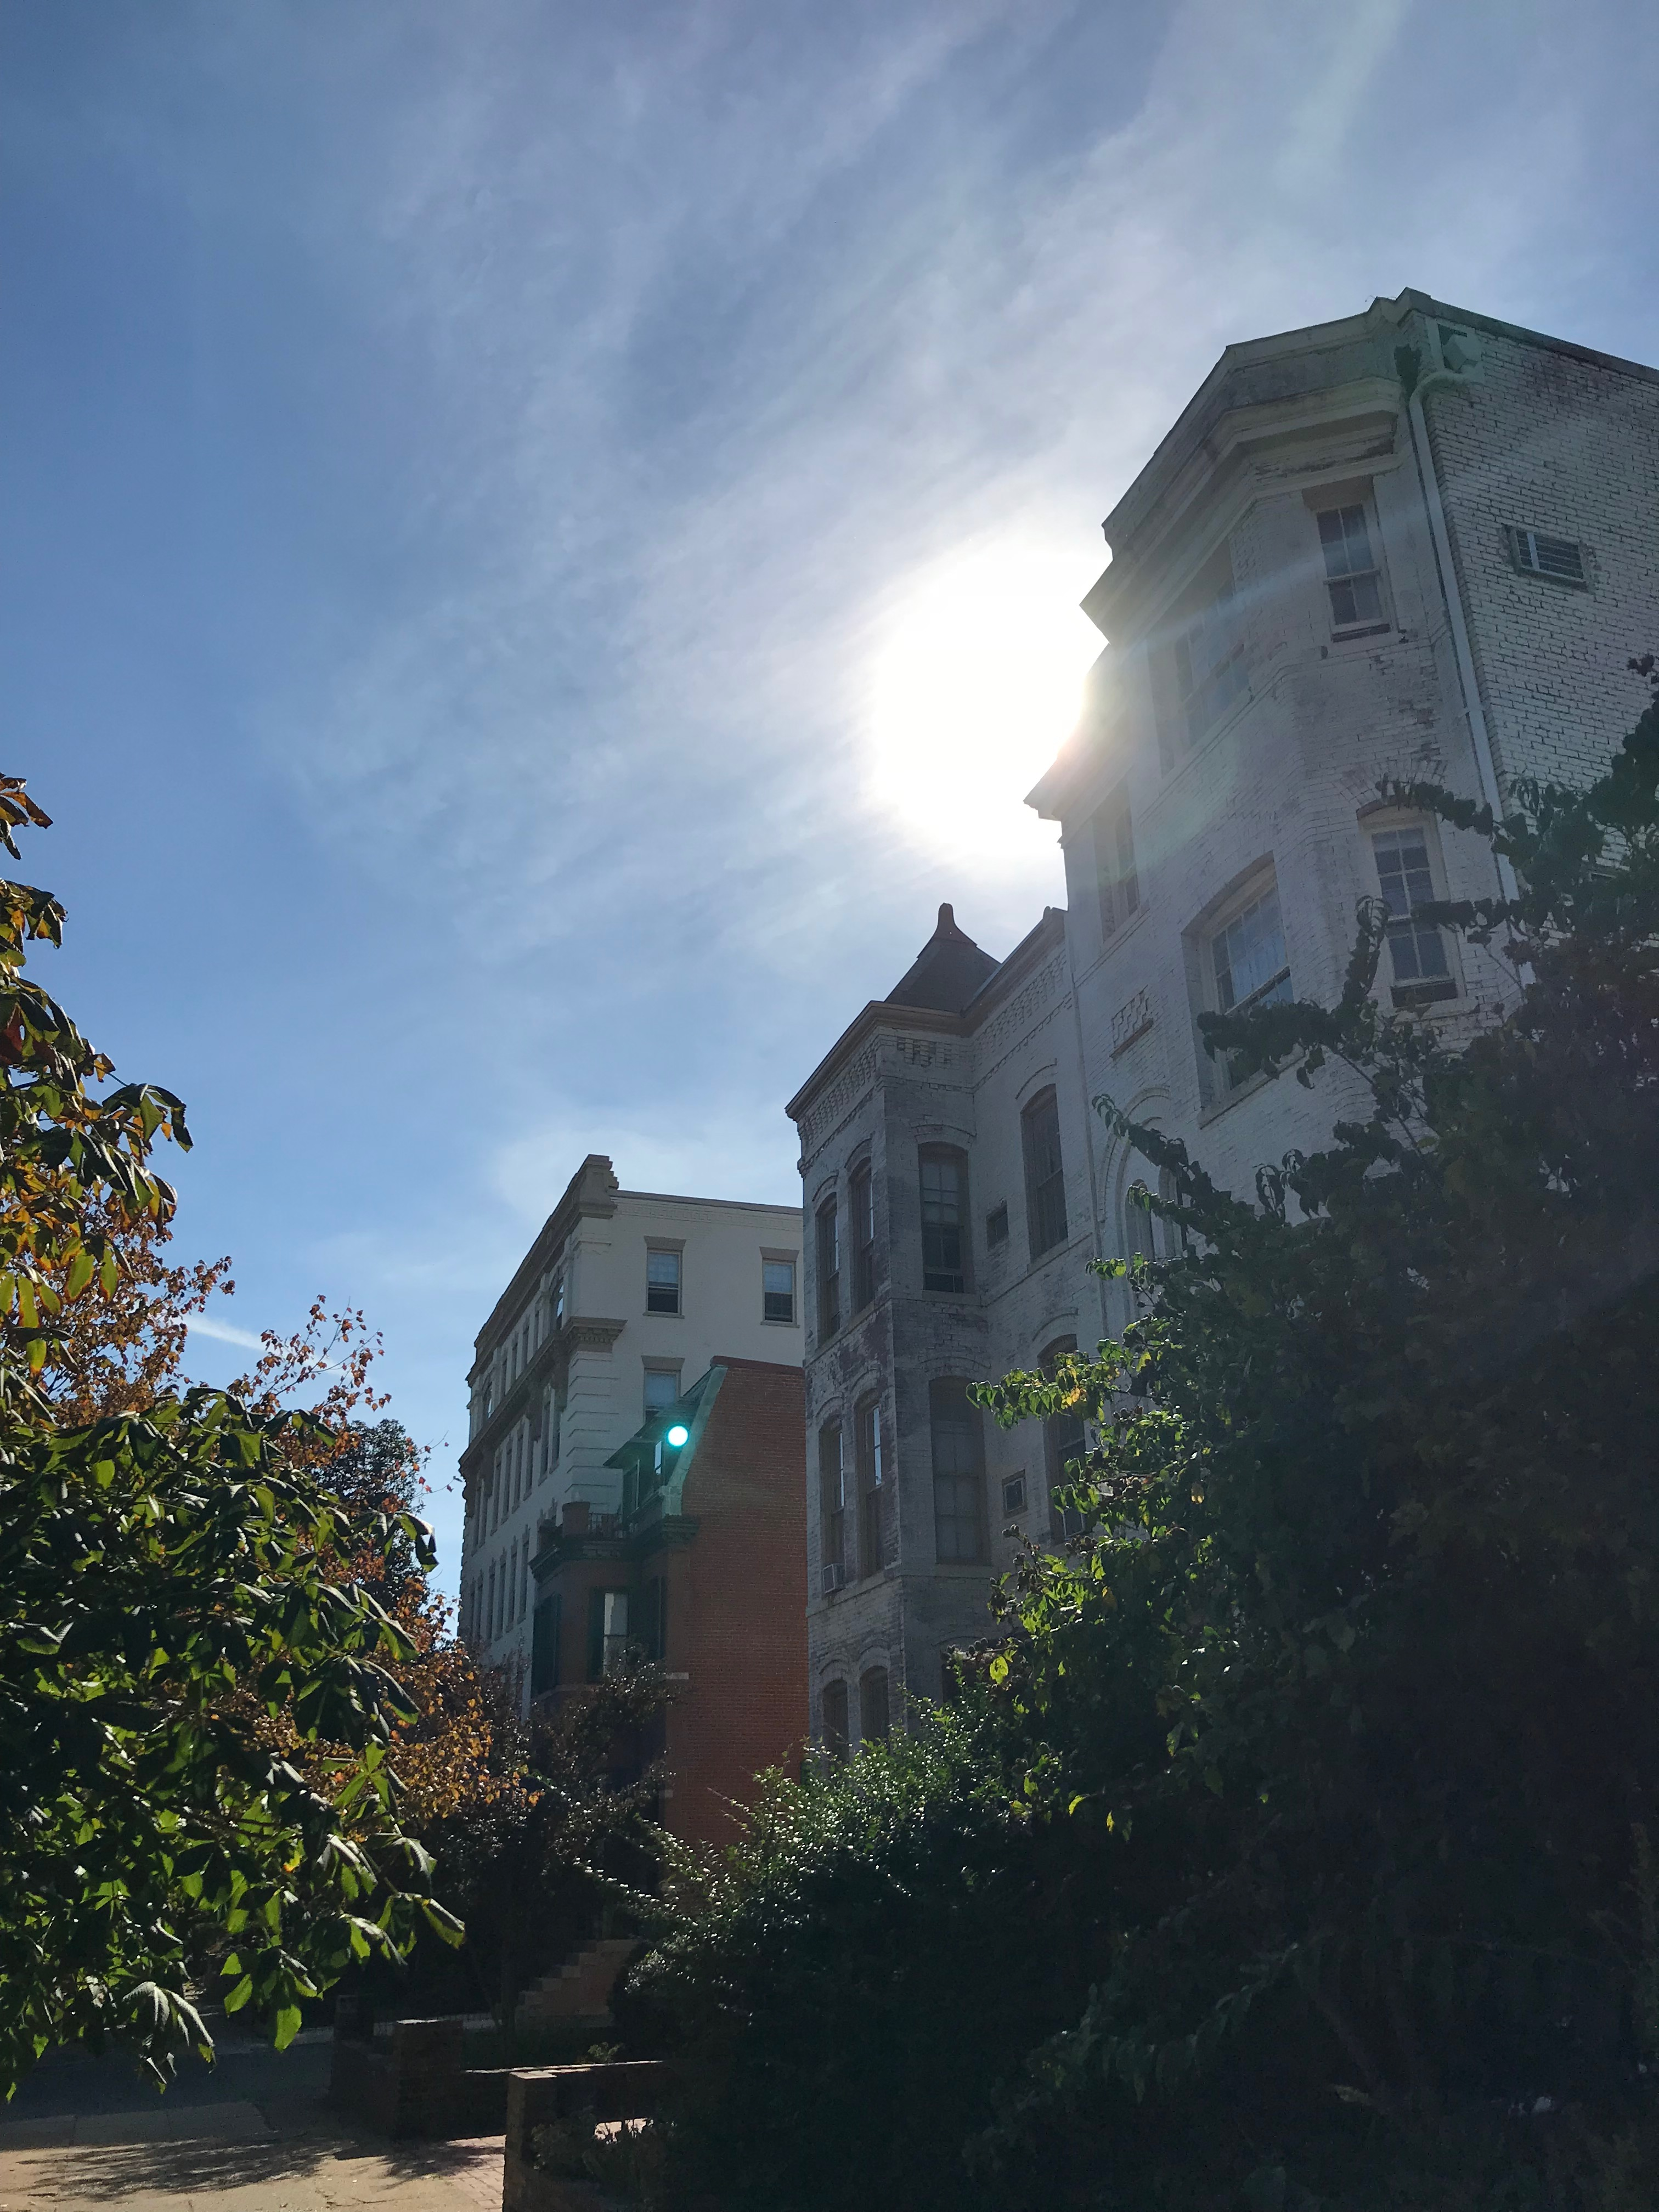flare: (666, 1423, 692, 1449)
